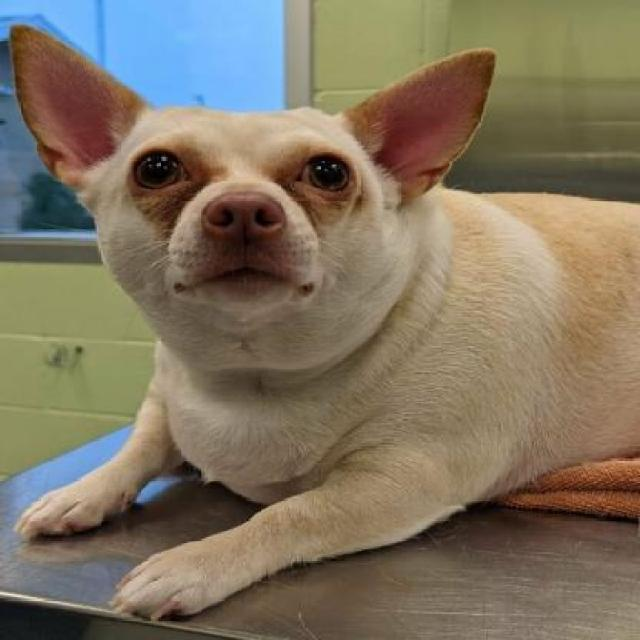Dog: (9, 19, 638, 622)
